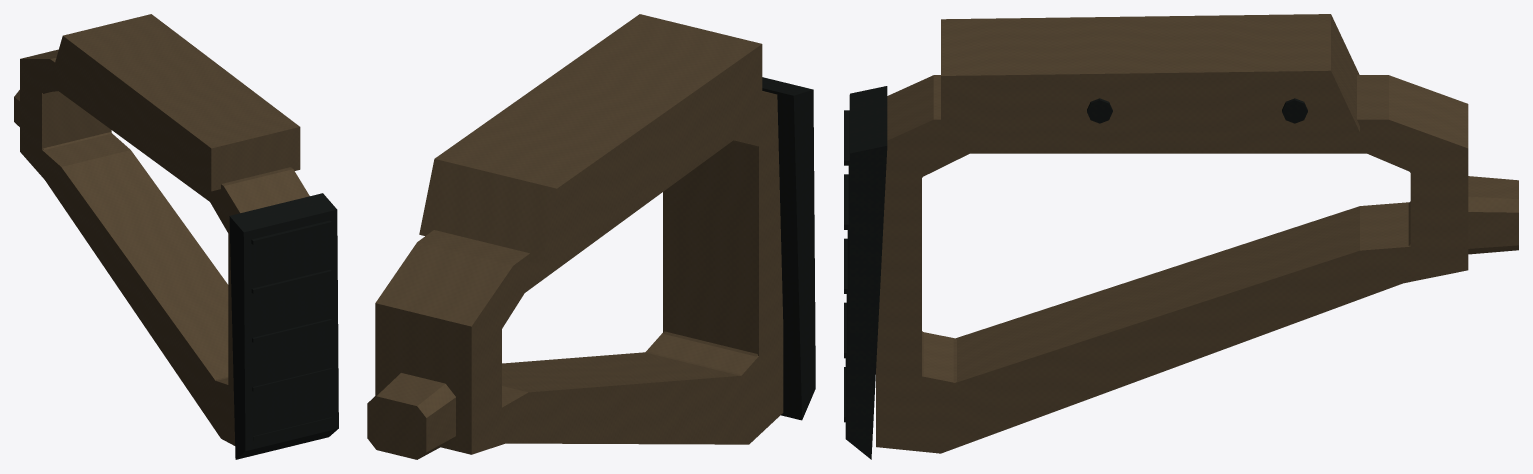
The model's file is scar_precision.glb.
3 views of the same model, side by side, from view 1: azimuth 30°, elevation 25°; view 2: azimuth 150°, elevation 25°; view 3: azimuth 270°, elevation 25° (orthographic). The views are drawn at different scales.
Visible parts, largest first — view 1: stock__scar_precision_LOD0_RAID_Secondary_Original_tan, stock__scar_precision_LOD1_RAID_Secondary_Original_tan, stock__scar_precision_LOD0_RAID_Secondary_Original_rubber, stock__scar_precision_LOD1_RAID_Secondary_Original_rubber; view 2: stock__scar_precision_LOD0_RAID_Secondary_Original_tan, stock__scar_precision_LOD1_RAID_Secondary_Original_tan, stock__scar_precision_LOD0_RAID_Secondary_Original_rubber, stock__scar_precision_LOD1_RAID_Secondary_Original_rubber; view 3: stock__scar_precision_LOD0_RAID_Secondary_Original_tan, stock__scar_precision_LOD1_RAID_Secondary_Original_tan, stock__scar_precision_LOD1_RAID_Secondary_Original_rubber, stock__scar_precision_LOD0_RAID_Secondary_Original_rubber.
Part boxes in pixels (bbox=[...]): stock__scar_precision_LOD0_RAID_Secondary_Original_tan: bbox=[14, 14, 308, 444]; stock__scar_precision_LOD1_RAID_Secondary_Original_tan: bbox=[20, 50, 309, 445]; stock__scar_precision_LOD0_RAID_Secondary_Original_rubber: bbox=[229, 194, 337, 456]; stock__scar_precision_LOD1_RAID_Secondary_Original_rubber: bbox=[229, 193, 338, 459]; stock__scar_precision_LOD0_RAID_Secondary_Original_tan: bbox=[367, 14, 782, 459]; stock__scar_precision_LOD1_RAID_Secondary_Original_tan: bbox=[375, 92, 783, 454]; stock__scar_precision_LOD0_RAID_Secondary_Original_rubber: bbox=[762, 78, 814, 417]; stock__scar_precision_LOD1_RAID_Secondary_Original_rubber: bbox=[762, 77, 815, 420]; stock__scar_precision_LOD0_RAID_Secondary_Original_tan: bbox=[880, 14, 1518, 451]; stock__scar_precision_LOD1_RAID_Secondary_Original_tan: bbox=[876, 75, 1468, 453]; stock__scar_precision_LOD1_RAID_Secondary_Original_rubber: bbox=[845, 86, 887, 459]; stock__scar_precision_LOD0_RAID_Secondary_Original_rubber: bbox=[844, 87, 1307, 442].
Bounding box in the file's own units: 0.0985 × 0.297 × 0.467.
2 materials, 2 textured.
